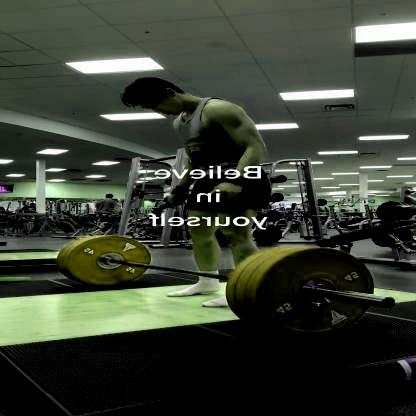Barbell: (373, 295, 395, 310)
